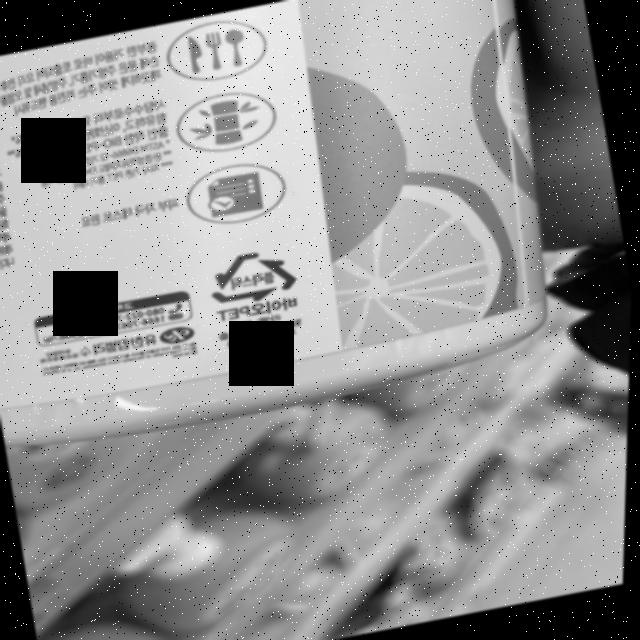Plastic: (203, 240, 311, 312)
